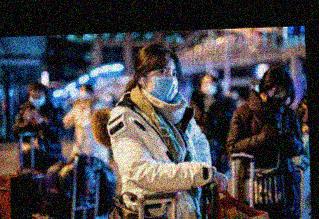with_mask: (147, 63, 179, 101), (262, 88, 289, 109), (199, 76, 219, 95), (27, 91, 46, 109)
